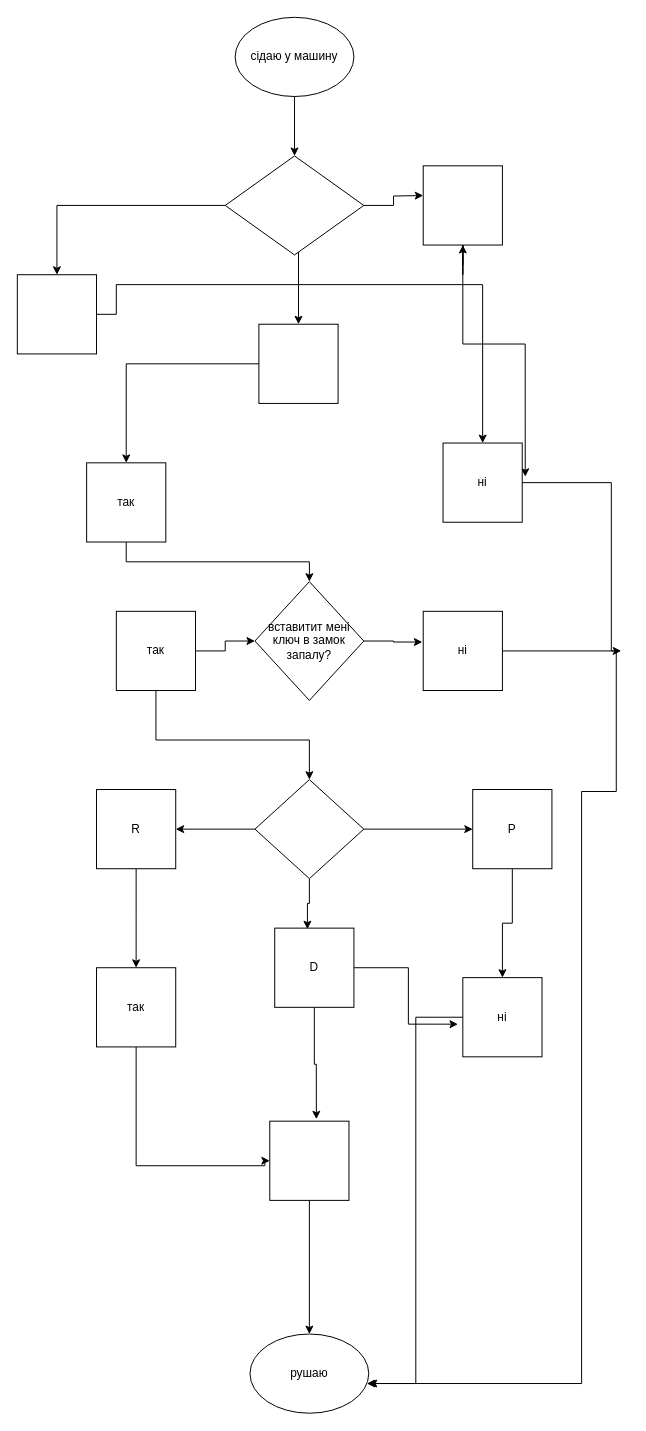
This 646x1431 diagram has some shape labels left out. Here are the shapes that lost their labels. From the top down, the box of each, then its label:
(224, 155, 364, 255): Що перше зробитити,щоб машина поЇхала?
(422, 165, 502, 245): Вставити ключ у замок запалу
(16, 274, 97, 354): зняти з ручника
(258, 323, 338, 403): нажати на тормоз
(254, 779, 364, 879): на яку передачу мені поставити?
(269, 1120, 349, 1200): знімаю зручника
